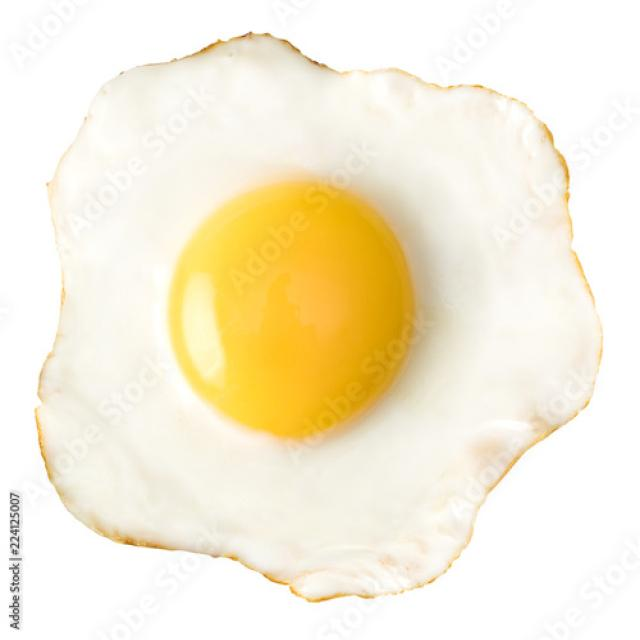Egg: (40, 35, 600, 599)
